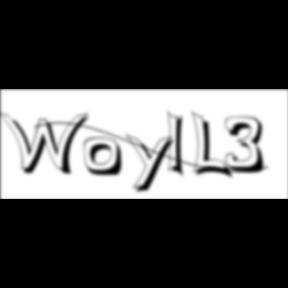3: (226, 116, 272, 176)
L: (192, 110, 236, 182)
W: (0, 110, 96, 178)
l: (168, 108, 190, 182)
o: (84, 137, 126, 179)
y: (126, 132, 180, 196)
